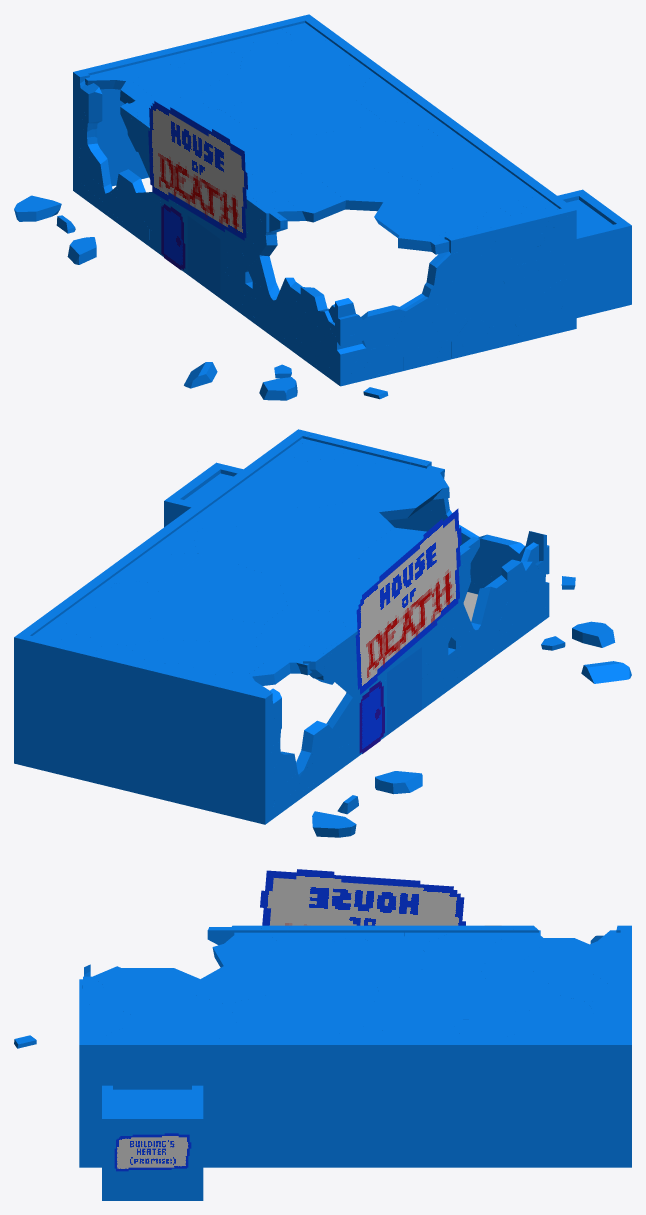
The model's file is house.fbx.
The picture shows the model from 3 angles, top to bottom: view 1: azimuth 30°, elevation 25°; view 2: azimuth 150°, elevation 25°; view 3: azimuth 270°, elevation 25°; orthographic projection. The views are drawn at different scales.
Visible parts, largest first — view 1: set_roof_cell, set_sign_death, set_wall, set_shed_wall_1, set_wall_2, set_wall_suspicious_shootable, set_door_3, set_roof__1_; view 2: set_roof_cell, set_wall, set_sign_death, set_wall_2, set_wall_suspicious_shootable, set_door_3, set_shed_wall_break; view 3: set_wall_2, set_roof_cell, set_sign_death, set_shed_wall_break, set_wall, set_sign_lie, set_roof__1_, set_shed_wall, set_shed_wall_1, set_wall_5.
Boxes of the visible parts, x1,y1,x2,y2 form: set_roof_cell: [14, 23, 576, 400]; set_sign_death: [148, 101, 247, 240]; set_wall: [73, 14, 314, 194]; set_shed_wall_1: [576, 221, 631, 317]; set_wall_2: [303, 15, 576, 330]; set_wall_suspicious_shootable: [187, 215, 220, 298]; set_door_3: [161, 204, 185, 270]; set_roof__1_: [567, 199, 612, 233]; set_roof_cell: [32, 429, 631, 837]; set_wall: [14, 633, 270, 824]; set_sign_death: [355, 508, 461, 694]; set_wall_2: [14, 432, 304, 765]; set_wall_suspicious_shootable: [387, 647, 421, 735]; set_door_3: [359, 681, 384, 753]; set_shed_wall_break: [170, 467, 220, 499]; set_wall_2: [80, 1040, 620, 1167]; set_roof_cell: [14, 925, 620, 1167]; set_sign_death: [260, 869, 465, 925]; set_shed_wall_break: [113, 1114, 191, 1200]; set_wall: [620, 925, 631, 1167]; set_sign_lie: [114, 1133, 191, 1171]; set_roof__1_: [113, 1089, 191, 1114]; set_shed_wall: [192, 1085, 203, 1200]; set_shed_wall_1: [102, 1085, 112, 1200]; set_wall_5: [311, 925, 409, 932].
Size of the model in its own units: 2235 by 894 by 2740.
